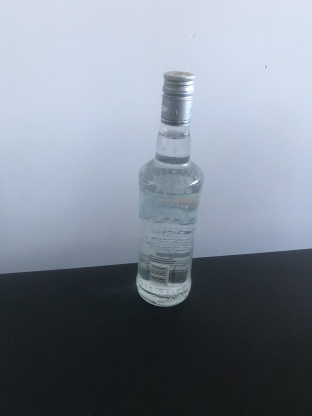nakretka: (158, 67, 197, 128)
